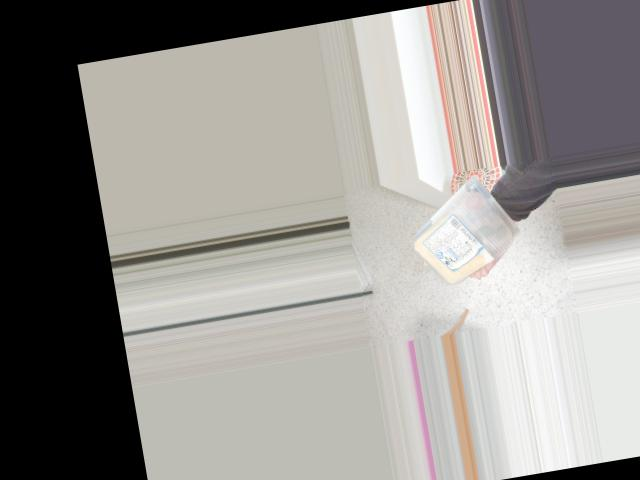cheese: (408, 213, 509, 280)
